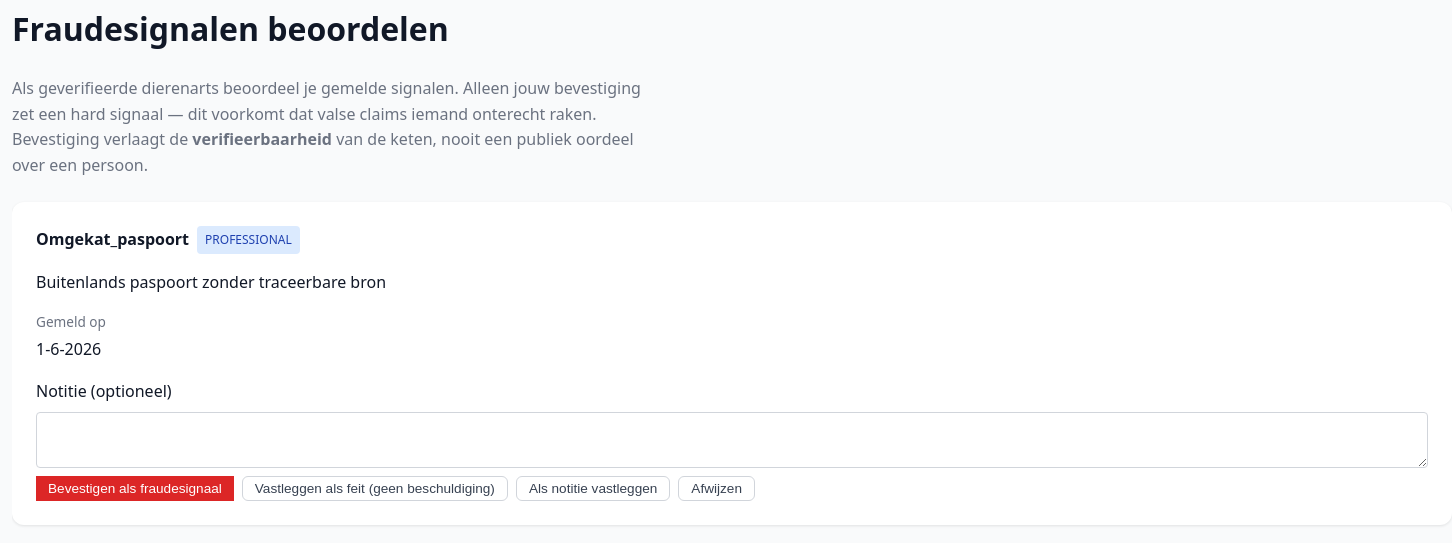
FraudReview › confirms a signal and shows the new chain status
Check: the text "omgekat_paspoort" is shown, box x1=36 y1=227 x2=189 y2=253
Click the button "Bevestigen als fraudesignaal".
click(135, 489)  # box x1=36 y1=476 x2=234 y2=501
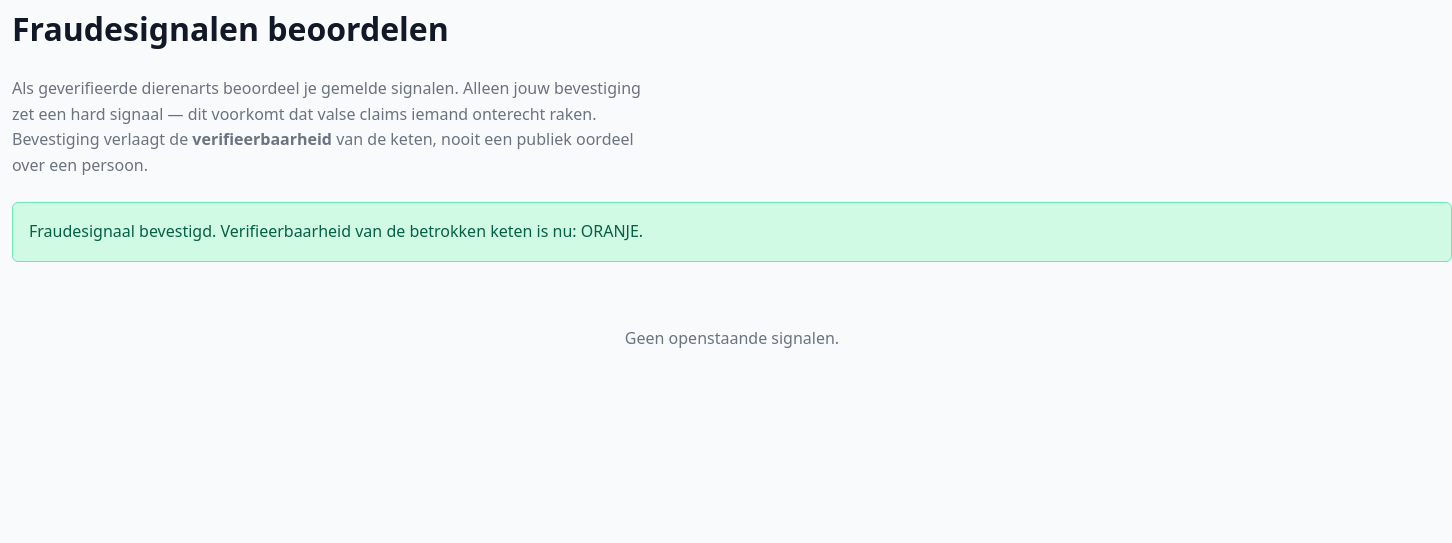
Check: the text "ORANJE" is shown, box x1=29 y1=220 x2=643 y2=242
